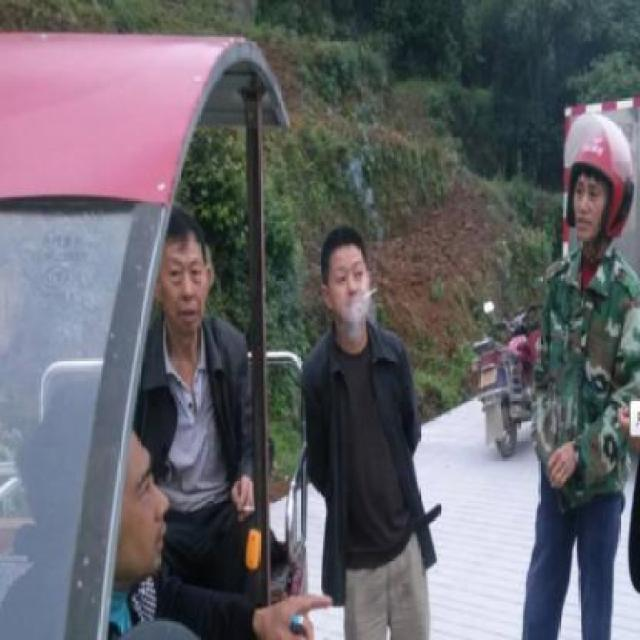cigarette: (358, 286, 378, 302)
